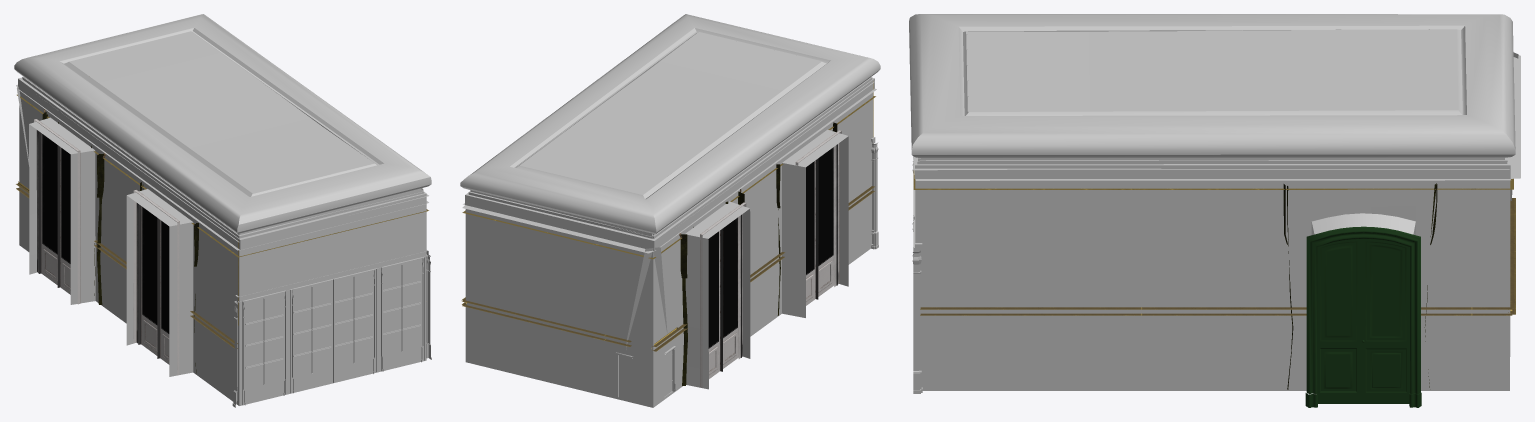
File: SaloBlau_001.fbx
The picture shows the model from 3 angles, left to right: view 1: azimuth 30°, elevation 25°; view 2: azimuth 150°, elevation 25°; view 3: azimuth 270°, elevation 25°; orthographic projection. The views are drawn at different scales.
Parts seen in each view (by area): view 1: PM_SRosa_sostre_LP.005, PM_SBlau_sostre, PortaVidriera_001.005, PortaVidriera_001.006, Porta_central_LP, Motllura Superior_001.007, Cortina_1.014, Motllura Inferior_001.044, Motllura Superior_001.006; view 2: PM_SBlau_sostre, PM_SRosa_sostre_LP.005, PortaVidriera_001.006, PortaVidriera_001.005, Motllura Inferior_001.044, Cortina_1.014, Porta_central_LP, Motllura Superior_001.006, Motllura Superior_001.007, Cortina_1.012; view 3: PM_SRosa_sostre_LP.005, PM_SBlau_sostre, Porta_fusta_Marc_001.012, Porta_fusta_PE_001.010, Porta_fusta_Marc_001.013, Motllura Inferior_001.044, Porta_central_LP, Motllura Superior_001.006, Motllura Superior_001.007, Cortina_1.016.
Part boxes in pixels (bbox=[...]): PM_SRosa_sostre_LP.005: bbox=[17, 86, 426, 405]; PM_SBlau_sostre: bbox=[14, 14, 431, 250]; PortaVidriera_001.005: bbox=[133, 189, 179, 375]; PortaVidriera_001.006: bbox=[34, 119, 80, 304]; Porta_central_LP: bbox=[232, 250, 431, 407]; Motllura Superior_001.007: bbox=[61, 112, 428, 242]; Cortina_1.014: bbox=[42, 109, 105, 304]; Motllura Inferior_001.044: bbox=[16, 183, 237, 348]; Motllura Superior_001.006: bbox=[17, 94, 428, 257]; PM_SBlau_sostre: bbox=[460, 14, 880, 253]; PM_SRosa_sostre_LP.005: bbox=[465, 38, 873, 407]; PortaVidriera_001.006: bbox=[700, 202, 746, 387]; PortaVidriera_001.005: bbox=[795, 130, 841, 305]; Motllura Inferior_001.044: bbox=[461, 186, 874, 351]; Cortina_1.014: bbox=[679, 189, 744, 385]; Porta_central_LP: bbox=[871, 137, 878, 249]; Motllura Superior_001.006: bbox=[462, 96, 875, 259]; Motllura Superior_001.007: bbox=[532, 81, 874, 238]; Cortina_1.012: bbox=[776, 122, 837, 315]; PM_SRosa_sostre_LP.005: bbox=[915, 52, 1518, 394]; PM_SBlau_sostre: bbox=[909, 14, 1520, 180]; Porta_fusta_Marc_001.012: bbox=[1361, 239, 1410, 403]; Porta_fusta_PE_001.010: bbox=[1317, 239, 1361, 403]; Porta_fusta_Marc_001.013: bbox=[1305, 226, 1421, 407]; Motllura Inferior_001.044: bbox=[920, 198, 1515, 315]; Porta_central_LP: bbox=[912, 156, 922, 393]; Motllura Superior_001.006: bbox=[913, 170, 1513, 189]; Motllura Superior_001.007: bbox=[913, 156, 1509, 170]; Cortina_1.016: bbox=[1283, 183, 1437, 389].
Bounding box in the file's own units: 656 × 510 × 1094.
